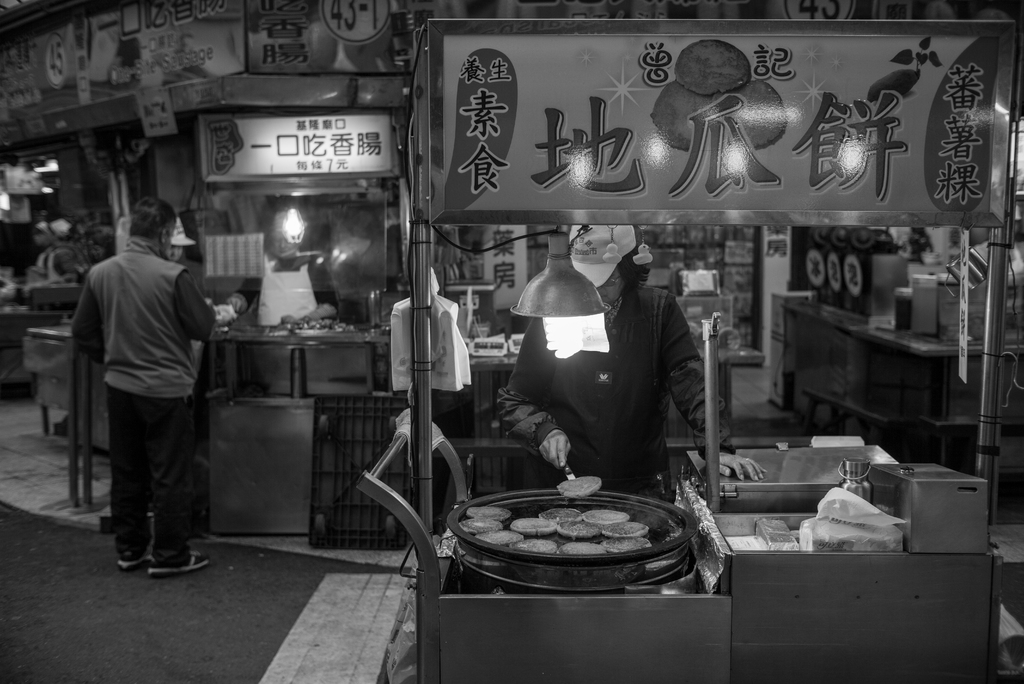Footwear: (152, 552, 207, 576), (118, 553, 150, 571)
